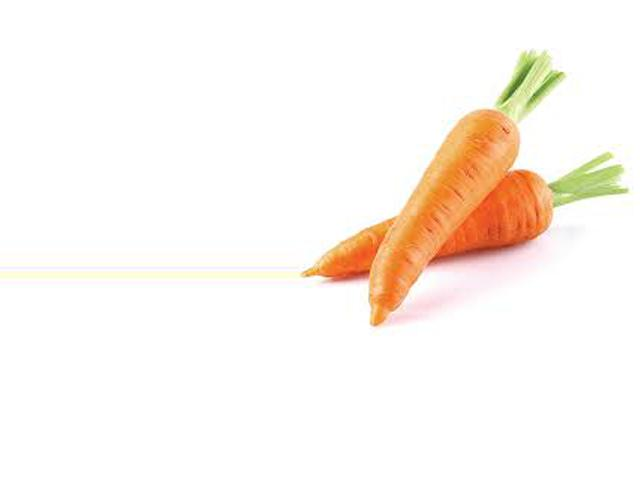carrot: (305, 180, 592, 268)
